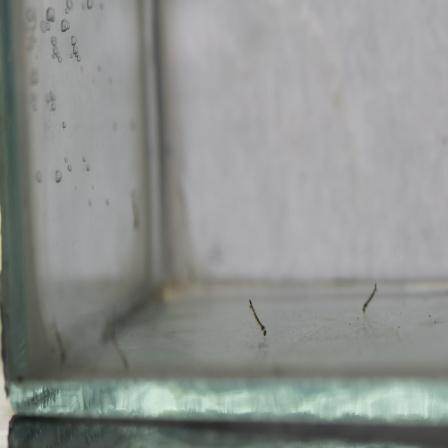Jentik-Nyamuk: (246, 296, 269, 339)
